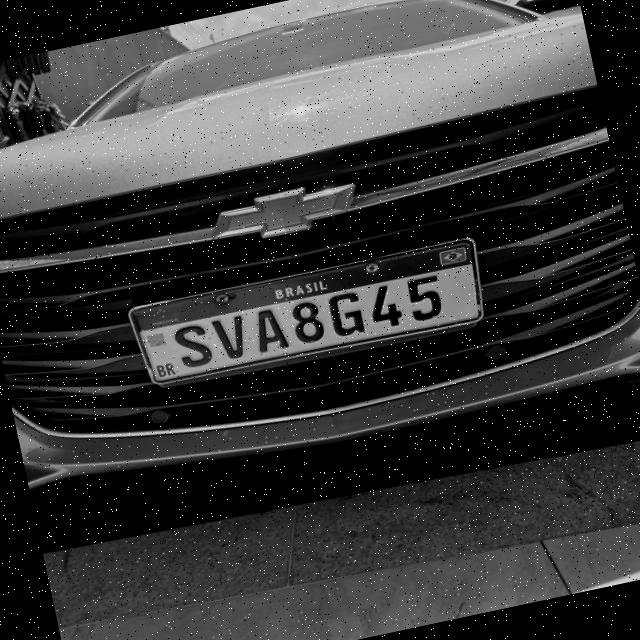Caractere: (405, 273, 446, 322), (172, 322, 213, 370), (210, 314, 250, 362), (326, 290, 366, 338), (366, 282, 405, 331), (250, 307, 290, 354), (290, 299, 328, 346)
